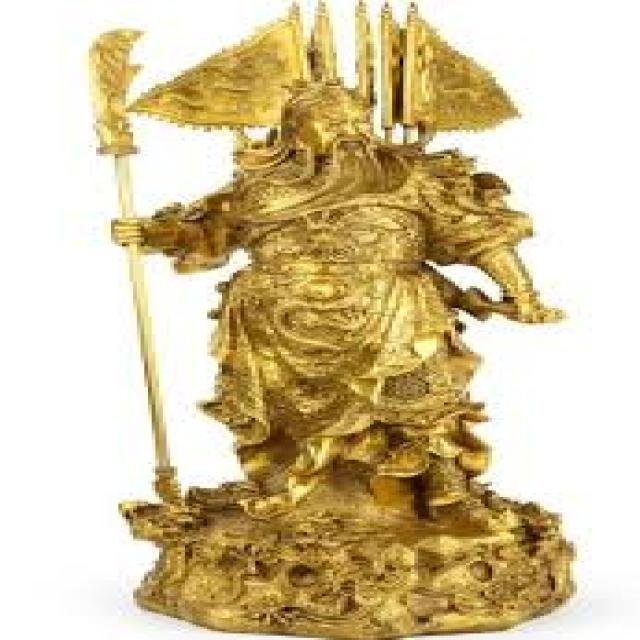Guan Yu: (180, 80, 489, 414)
